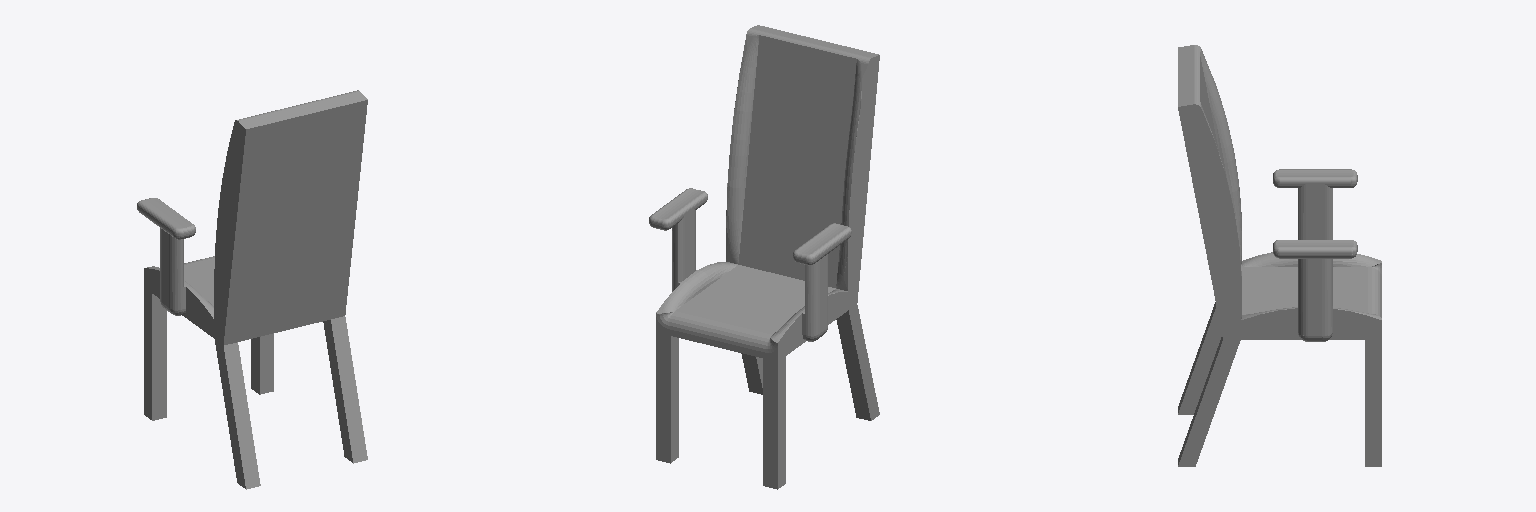
The model's file is chair_small.obj.
3 views of the same model, side by side, from view 1: azimuth 30°, elevation 25°; view 2: azimuth 150°, elevation 25°; view 3: azimuth 270°, elevation 25° (orthographic).
Visible parts, largest first — view 1: Body2; view 2: Body2; view 3: Body2.
Boxes of the visible parts, box(x1,y1,x2,y2) form: Body2: box(137, 90, 367, 489); Body2: box(649, 25, 879, 489); Body2: box(1178, 45, 1381, 466).
Size of the model in its own units: 1.7 by 3.55 by 1.82.